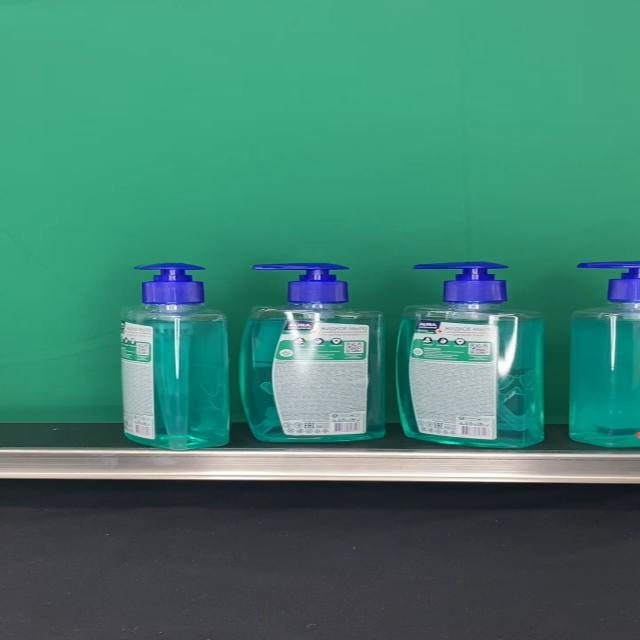Bottle: (399, 262, 545, 448), (239, 262, 385, 442), (122, 262, 230, 450)
Cap: (251, 262, 350, 304), (412, 262, 510, 303), (134, 263, 208, 304)
